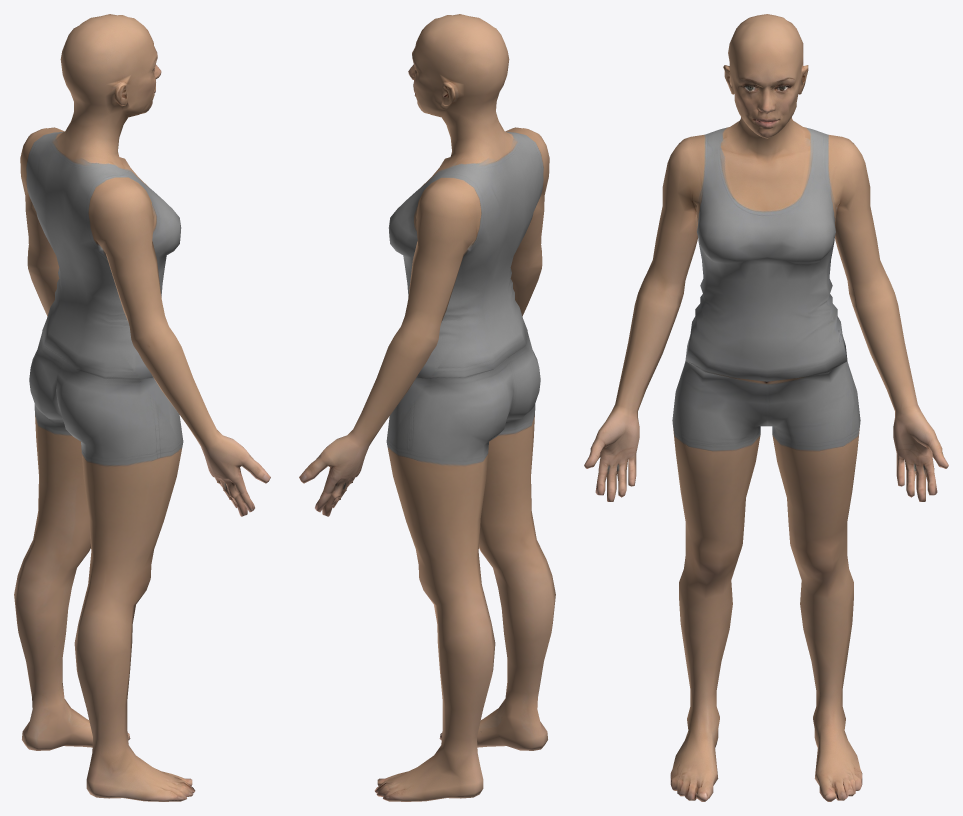
3 views of the same model, side by side, from view 1: azimuth 30°, elevation 25°; view 2: azimuth 150°, elevation 25°; view 3: azimuth 270°, elevation 25° (orthographic).
Parts seen in each view (by area): view 1: right_leg, back, left_leg, right_hand, heap, head, left_hand, women_reproducible_part, chest, neck; view 2: left_leg, back, right_leg, left_hand, heap, head, right_hand, women_reproducible_part, chest, neck; view 3: chest, right_leg, left_leg, stomach, left_hand, right_hand, women_reproducible_part, head, neck.
Boxes of the visible parts, box(x1,y1,x2,y2) form: right_leg: box(74, 442, 195, 801); back: box(28, 112, 140, 378); left_leg: box(14, 409, 130, 750); right_hand: box(85, 177, 270, 516); heap: box(29, 332, 151, 459); head: box(60, 14, 161, 126); left_hand: box(20, 127, 64, 316); women_reproducible_part: box(139, 378, 183, 455); chest: box(104, 152, 181, 273); neck: box(90, 124, 123, 153); left_leg: box(374, 442, 495, 801); back: box(429, 112, 541, 378); right_leg: box(439, 409, 555, 750); left_hand: box(299, 177, 484, 516); heap: box(418, 332, 540, 459); head: box(408, 14, 509, 126); right_hand: box(505, 127, 549, 316); women_reproducible_part: box(386, 378, 430, 455); chest: box(388, 152, 465, 273); neck: box(446, 124, 479, 153); chest: box(697, 128, 835, 280); right_leg: box(670, 423, 760, 801); left_leg: box(772, 423, 862, 801); stomach: box(685, 260, 847, 381); left_hand: box(826, 134, 948, 501); right_hand: box(584, 134, 706, 501); women_reproducible_part: box(672, 361, 860, 446); head: box(723, 14, 808, 138); neck: box(736, 117, 796, 155).
Size of the model in its own units: 0.1855 by 0.998 by 0.4355.
1 material, 1 textured.
